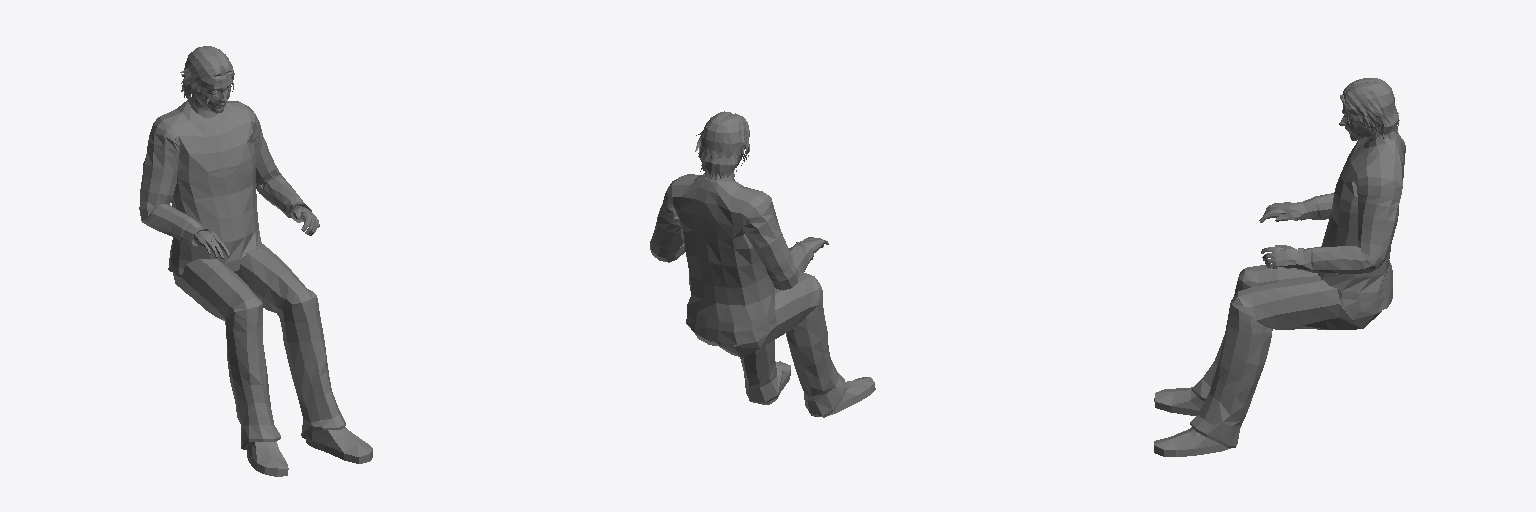
File: sit_male.obj
The picture shows the model from 3 angles: view 1: azimuth 30°, elevation 25°; view 2: azimuth 150°, elevation 25°; view 3: azimuth 270°, elevation 25°; orthographic projection.
Parts seen in each view (by area): view 1: Object01; view 2: Object01; view 3: Object01.
Part boxes in pixels (bbox=[...]): Object01: bbox=[139, 46, 372, 476]; Object01: bbox=[650, 111, 875, 417]; Object01: bbox=[1154, 78, 1405, 456].
Bounding box in the file's own units: 62.58 × 144 × 95.08.